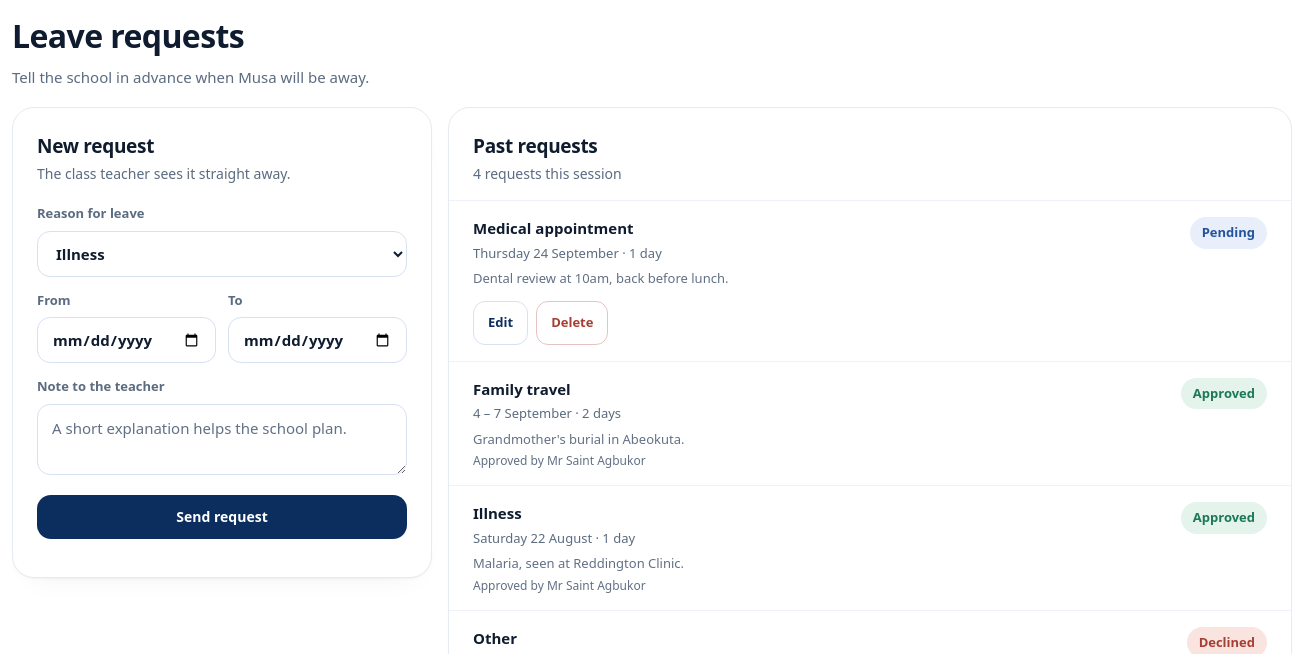
Scenario: Leave requests (fixtures) › sends a new request with the new leave types and the child header
The width and height of the screenshot is (1292, 654).
Check: the text "4 requests this session" is shown, box [473, 164, 622, 183]
Select "Religious observance" in the dropdown labelled "Reason for leave" at {"x": 222, "y": 254}, box [37, 230, 407, 276]
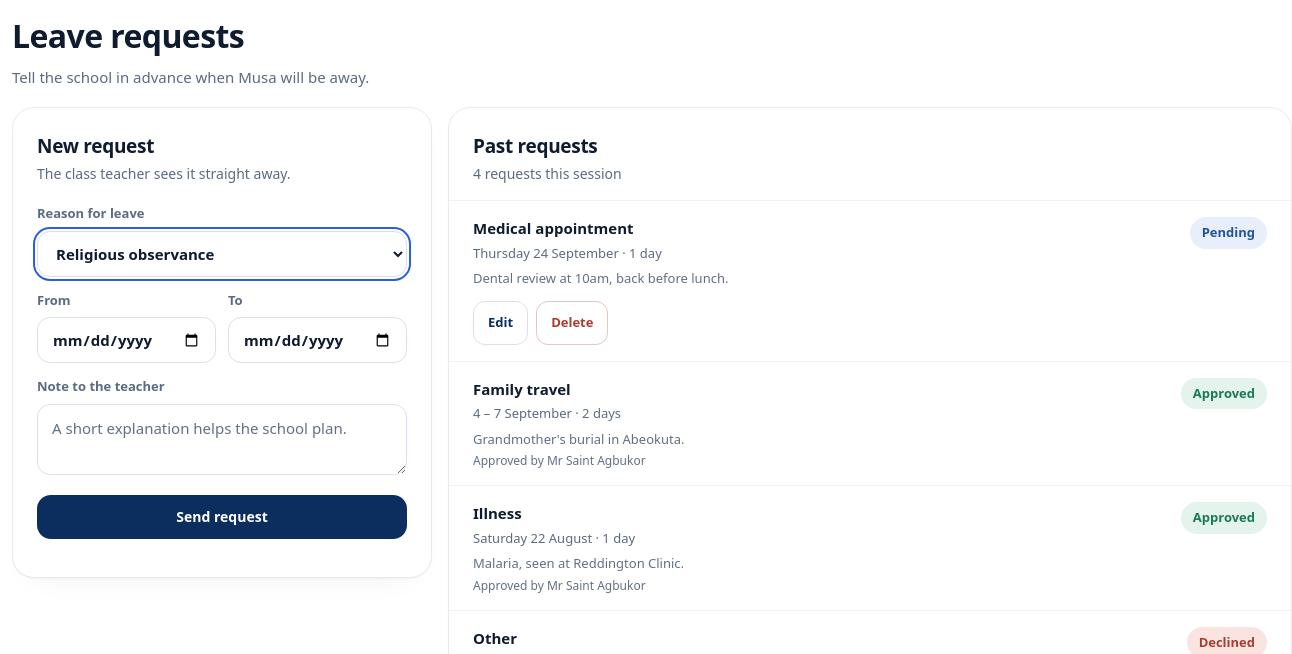
Type "2026-10-20" into the date field labelled "From".
click(126, 340); type("2026-10-20")  # box [37, 317, 216, 363]
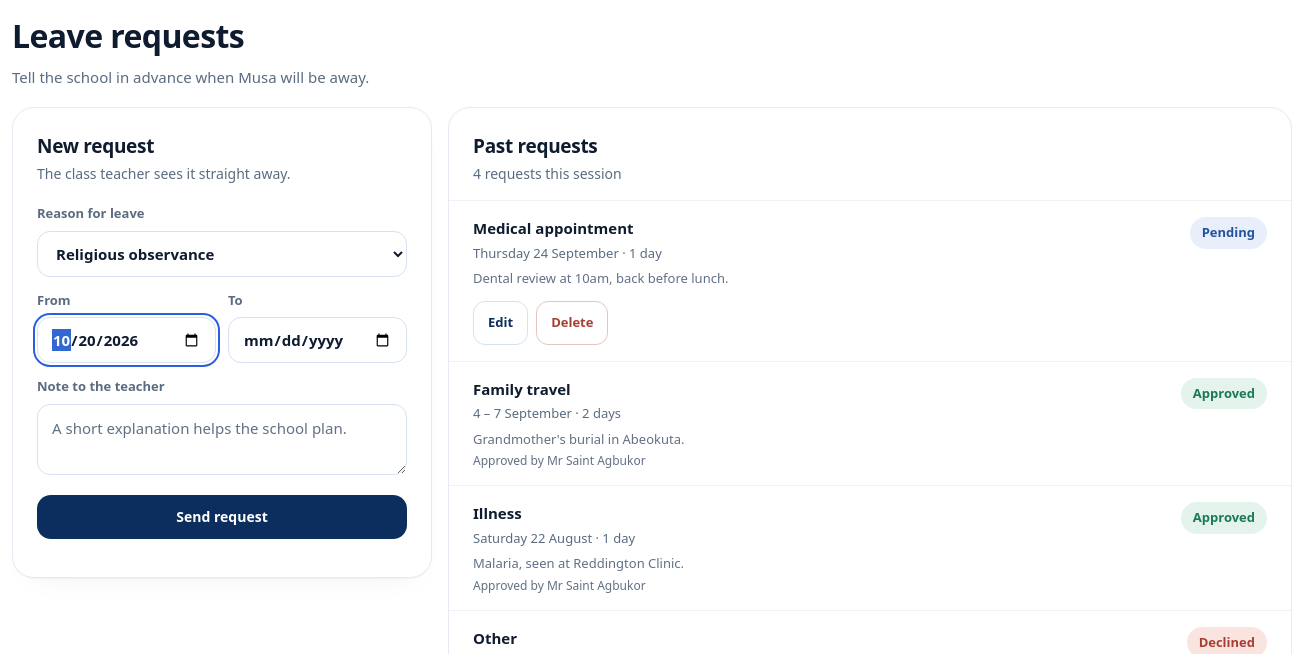
Type "2026-10-21" into the date field labelled "To".
click(318, 340); type("2026-10-21")  # box [228, 317, 407, 363]
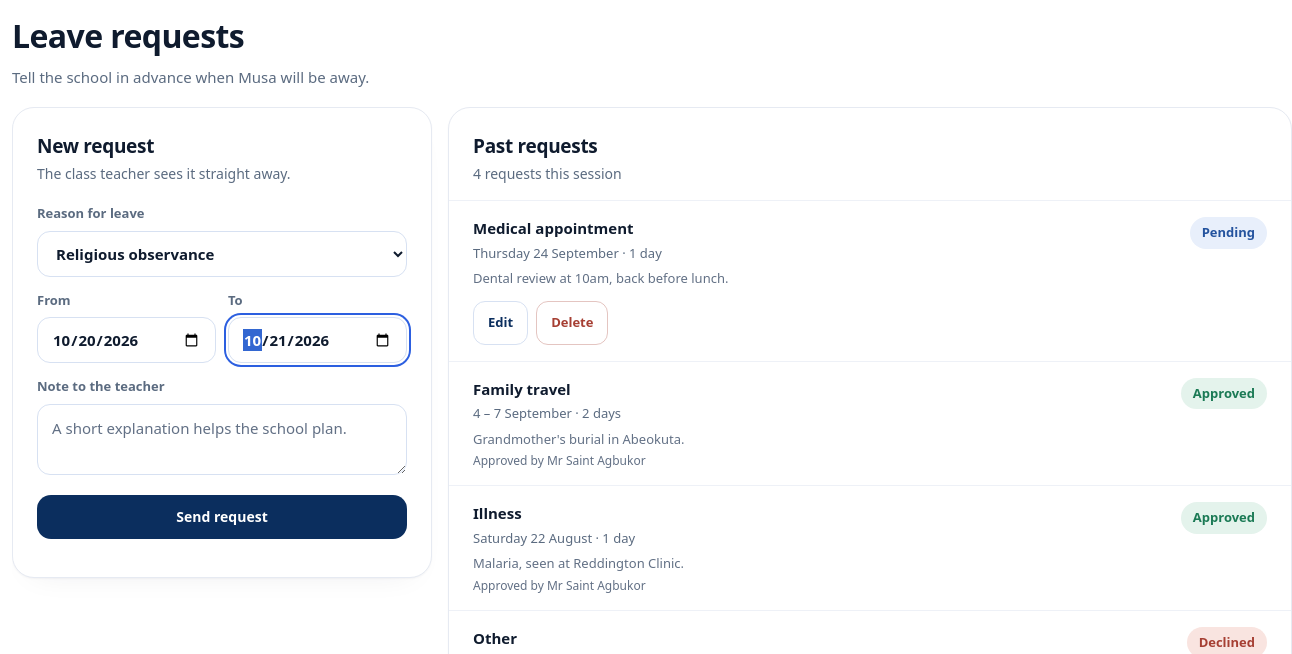
Type "Eid celebration." into the text box labelled "Note to the teacher".
click(222, 439); type("Eid celebration.")  # box [37, 404, 407, 474]
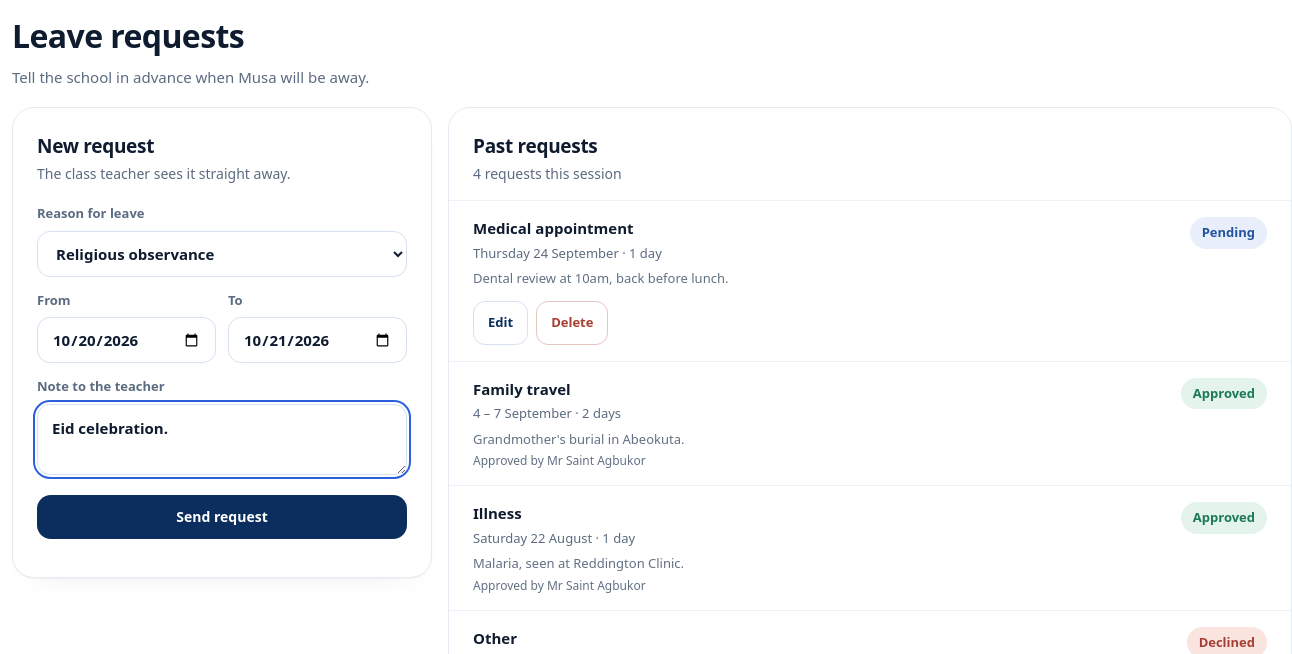
Click the button "Send request".
click(222, 516)  # box [37, 494, 407, 538]
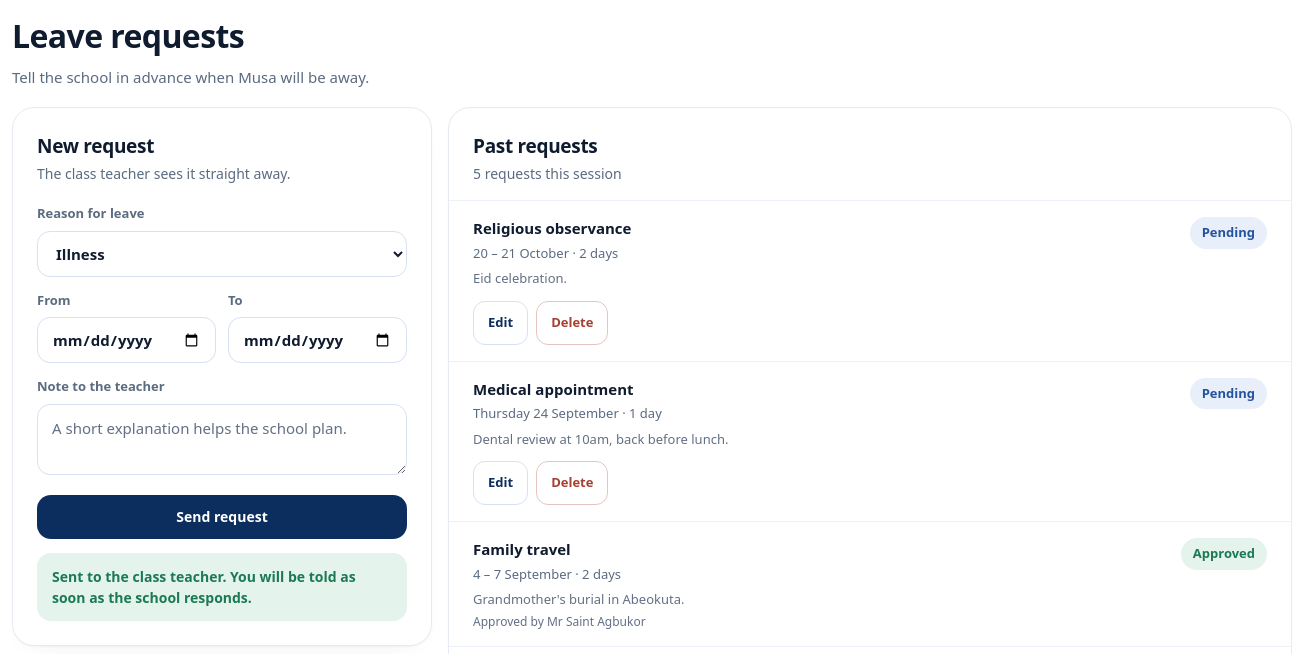
Check: the text "Sent to the class teacher" is shown, box [52, 566, 356, 606]
Check: the text "5 requests this session" is shown, box [473, 164, 622, 183]
Check: the text "Religious observance" is shown, box [473, 218, 631, 238]
